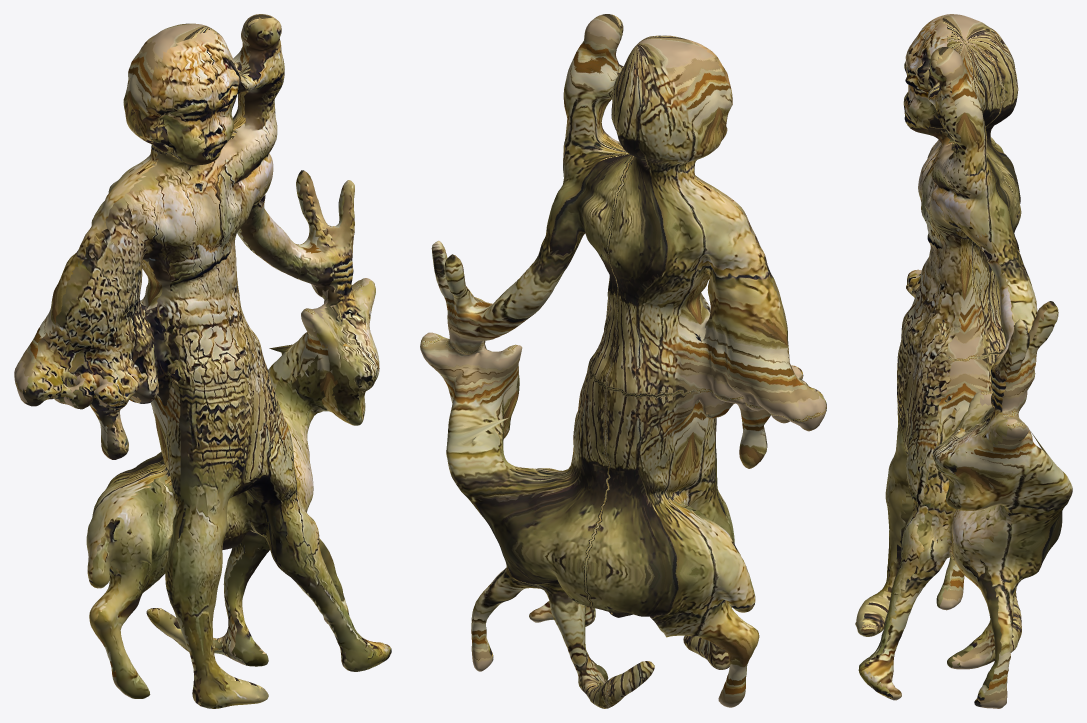
File: ane-21.glb
The picture shows the model from 3 angles, left to right: view 1: azimuth 30°, elevation 25°; view 2: azimuth 150°, elevation 25°; view 3: azimuth 270°, elevation 25°; orthographic projection. The views are drawn at different scales.
Visible parts, largest first — view 1: ane-21; view 2: ane-21; view 3: ane-21.
Boxes of the visible parts, left/top/right/bottom form: ane-21: left=14, top=14, right=391, bottom=708; ane-21: left=420, top=14, right=826, bottom=708; ane-21: left=855, top=14, right=1072, bottom=708.
Bounding box in the file's own units: 0.5985 × 0.9979 × 0.3182.
2 materials, 2 textured.
